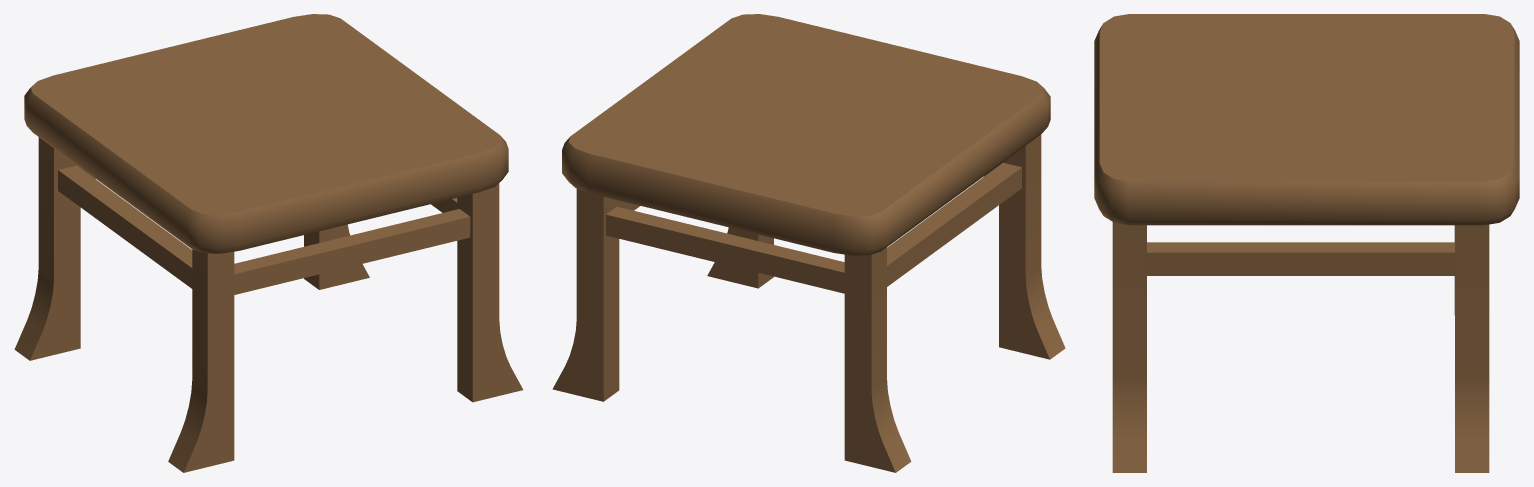
Rendered from table.glb.
3 views of the same model, side by side, from view 1: azimuth 30°, elevation 25°; view 2: azimuth 150°, elevation 25°; view 3: azimuth 270°, elevation 25° (orthographic). The views are drawn at different scales.
Parts seen in each view (by area): view 1: Environment_Table; view 2: Environment_Table; view 3: Environment_Table.
Boxes of the visible parts, x1=… form: Environment_Table: x1=14, y1=14, x2=523, y2=472; Environment_Table: x1=552, y1=14, x2=1065, y2=472; Environment_Table: x1=1094, y1=14, x2=1519, y2=472.
Bounding box in the file's own units: 2.18 × 1.55 × 2.11.
